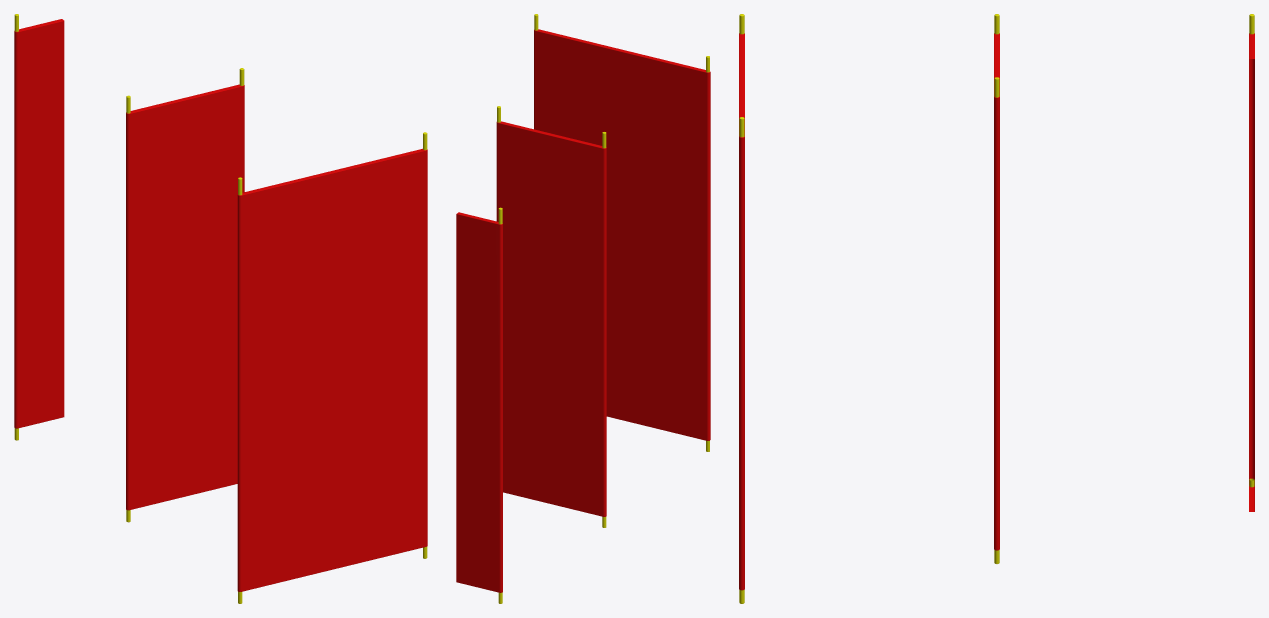
File: robothor_wall_panels_grp.fbx
3 views of the same model, side by side, from view 1: azimuth 30°, elevation 25°; view 2: azimuth 150°, elevation 25°; view 3: azimuth 270°, elevation 25° (orthographic). The views are drawn at different scales.
Visible parts, largest first — view 1: robothor_wall_panel_38_5, robothor_wall_panel_24, robothor_wall_panel_38_5_quarter; view 2: robothor_wall_panel_38_5, robothor_wall_panel_24, robothor_wall_panel_38_5_quarter; view 3: robothor_wall_panel_38_5, robothor_wall_panel_24, robothor_wall_panel_38_5_quarter.
Part boxes in pixels (x1,y1,x2,y2): robothor_wall_panel_38_5: [237, 132, 427, 603]; robothor_wall_panel_24: [126, 68, 244, 522]; robothor_wall_panel_38_5_quarter: [14, 14, 64, 440]; robothor_wall_panel_38_5: [534, 14, 710, 451]; robothor_wall_panel_24: [496, 106, 606, 527]; robothor_wall_panel_38_5_quarter: [456, 207, 502, 603]; robothor_wall_panel_38_5: [739, 14, 744, 603]; robothor_wall_panel_24: [994, 14, 999, 563]; robothor_wall_panel_38_5_quarter: [1249, 14, 1254, 511].
Size of the model in its own units: 97.94 by 210 by 202.
